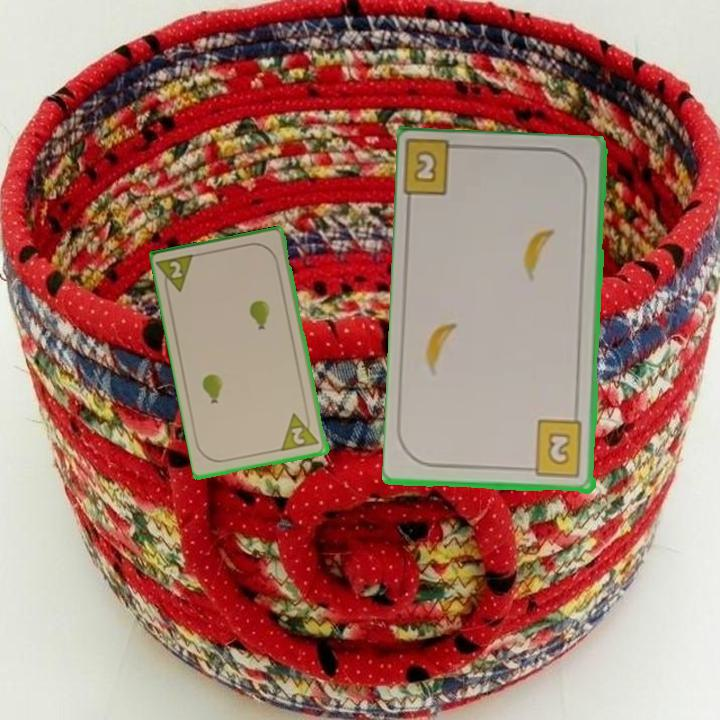2b: (403, 139, 470, 201), (523, 417, 586, 480)
2p: (155, 251, 199, 298), (279, 408, 322, 454)
